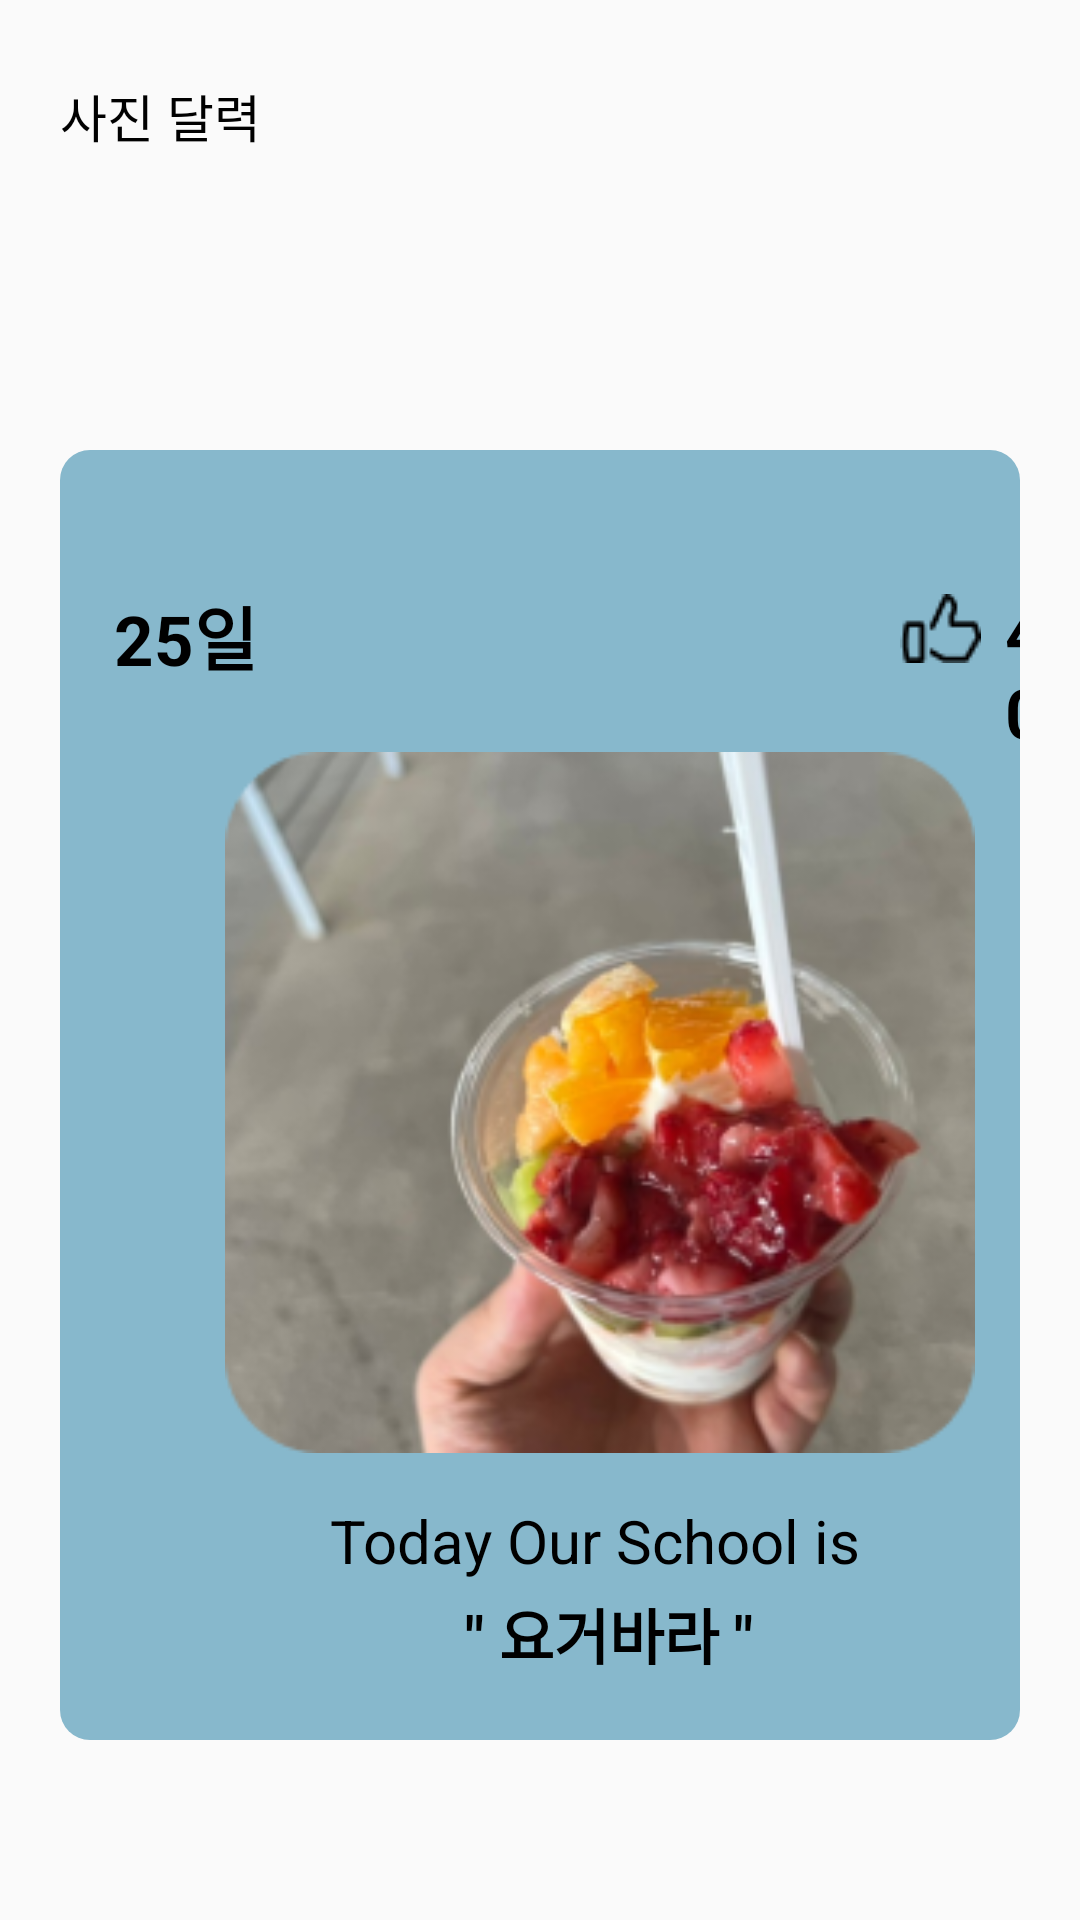

Icons on this 1080 × 1920 Android screen, each with the point to tap as point (x, y):
thumb: point (940, 628)
